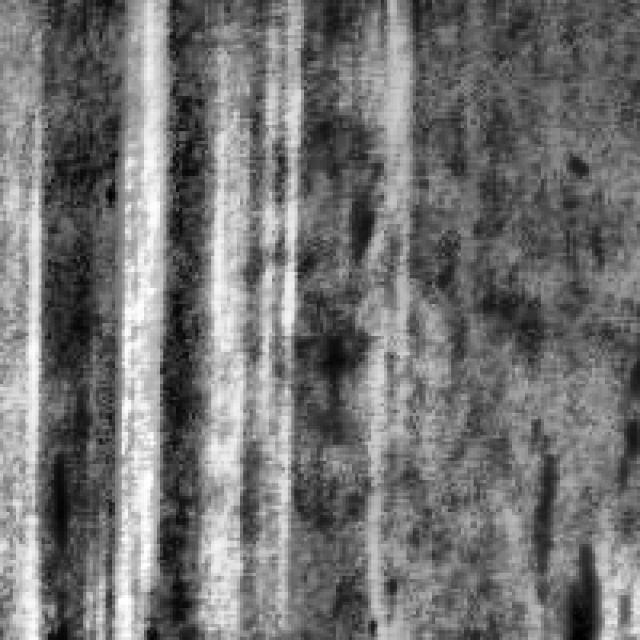Inclusion: (189, 96, 285, 611), (108, 3, 164, 634)
Patches: (550, 538, 605, 636)
